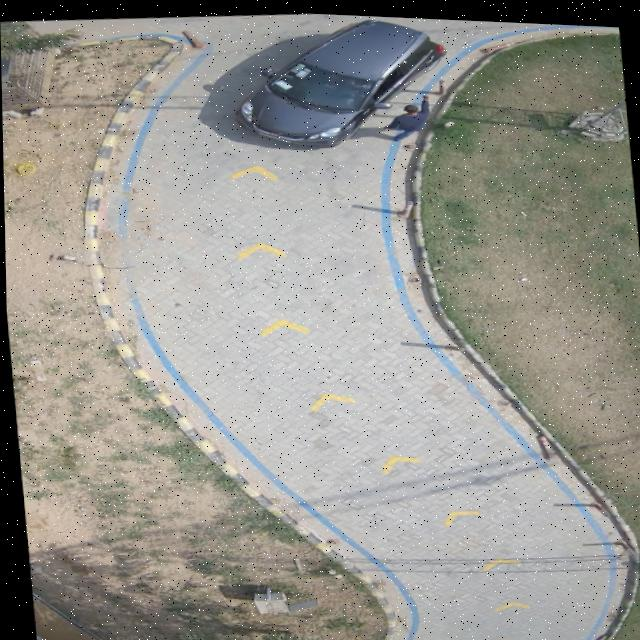car: (236, 16, 443, 145)
